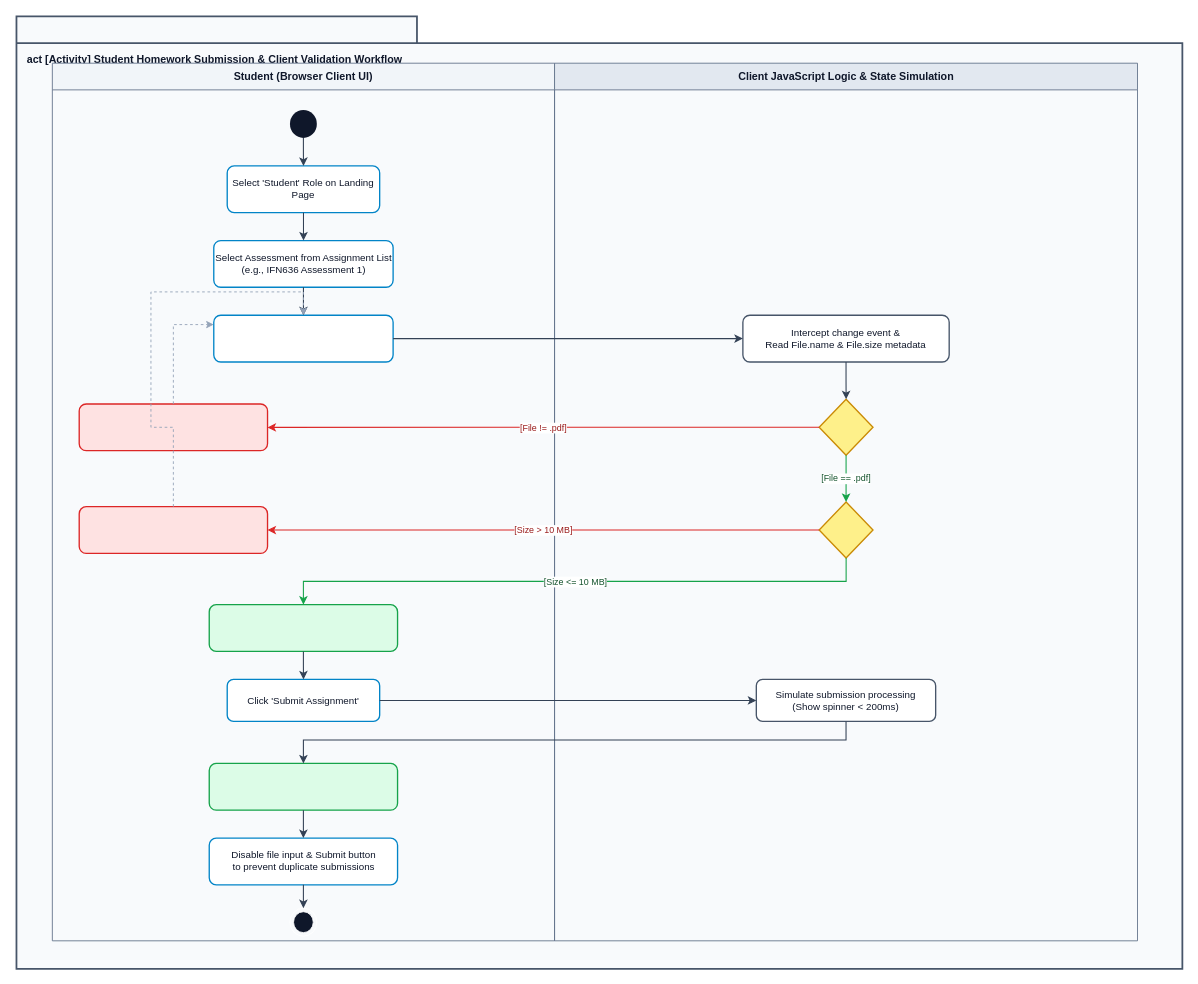
Some shapes in this 1198 by 984 pixel diagram are drawn without their labels. The shapes that lost their labels are listed below. From the top down, each one's box as (x1, y1, x2, y2) in pixels, then its label:
(213, 314, 393, 362): Select Local File via File Chooser / Drag-and-Drop
(78, 403, 268, 451): Display Error Banner: 'Invalid format. Only .pdf files allowed'
(78, 506, 268, 554): Display Error Banner: 'File size exceeds 10 MB limit'
(208, 604, 398, 652): Enable 'Submit Assignment' Button & Display Valid File Chip (.pdf <= 10MB)
(208, 762, 398, 810): Display Green Confirmation Modal and Update Badge to 'Submitted'
